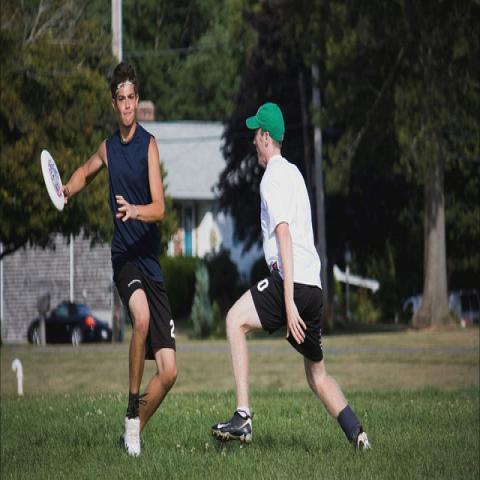car: (27, 301, 114, 345), (402, 279, 463, 326)
